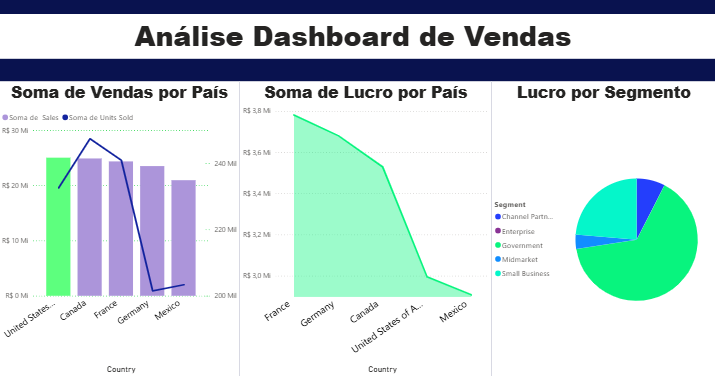

Layout of this report page (visuals, bound fields, positions):
{"tool":"powerbi","page":{"name":"Página 1","canvas":[1280,720],"ordinal":0},"visuals":[{"type":"lineStackedColumnComboChart","title":"Soma de Vendas por País","fields":{"Category":["financials.Country"],"Y":["Sum(financials. Sales)"],"Y2":["Sum(financials.Units Sold)"]},"box":[0,120,430,526.7],"z":0},{"type":"stackedAreaChart","title":"Soma de Lucro por País","fields":{"Category":["financials.Country"],"Y":["Sum(financials.Profit)"]},"box":[430,120,450,526.7],"z":1000},{"type":"pieChart","title":"Lucro por Segmento","fields":{"Y":["Sum(financials.Profit)"],"Series":["financials.Segment"]},"box":[880,120,400,526.7],"z":2000},{"type":"textbox","box":[0,0,1280,80],"z":2001}]}

Visuals, with their boxes on the page's 1280x720 design canvas (x1, y1, x2, y2). These are canvas units, not pixel positions in the 715x376 screenshot, which may show the page scaled, cropped or inside an application window:
"Soma de Vendas por País" lineStackedColumnComboChart: 0/120/430/647
"Soma de Lucro por País" stackedAreaChart: 430/120/880/647
"Lucro por Segmento" pieChart: 880/120/1280/647
textbox: 0/0/1280/80
